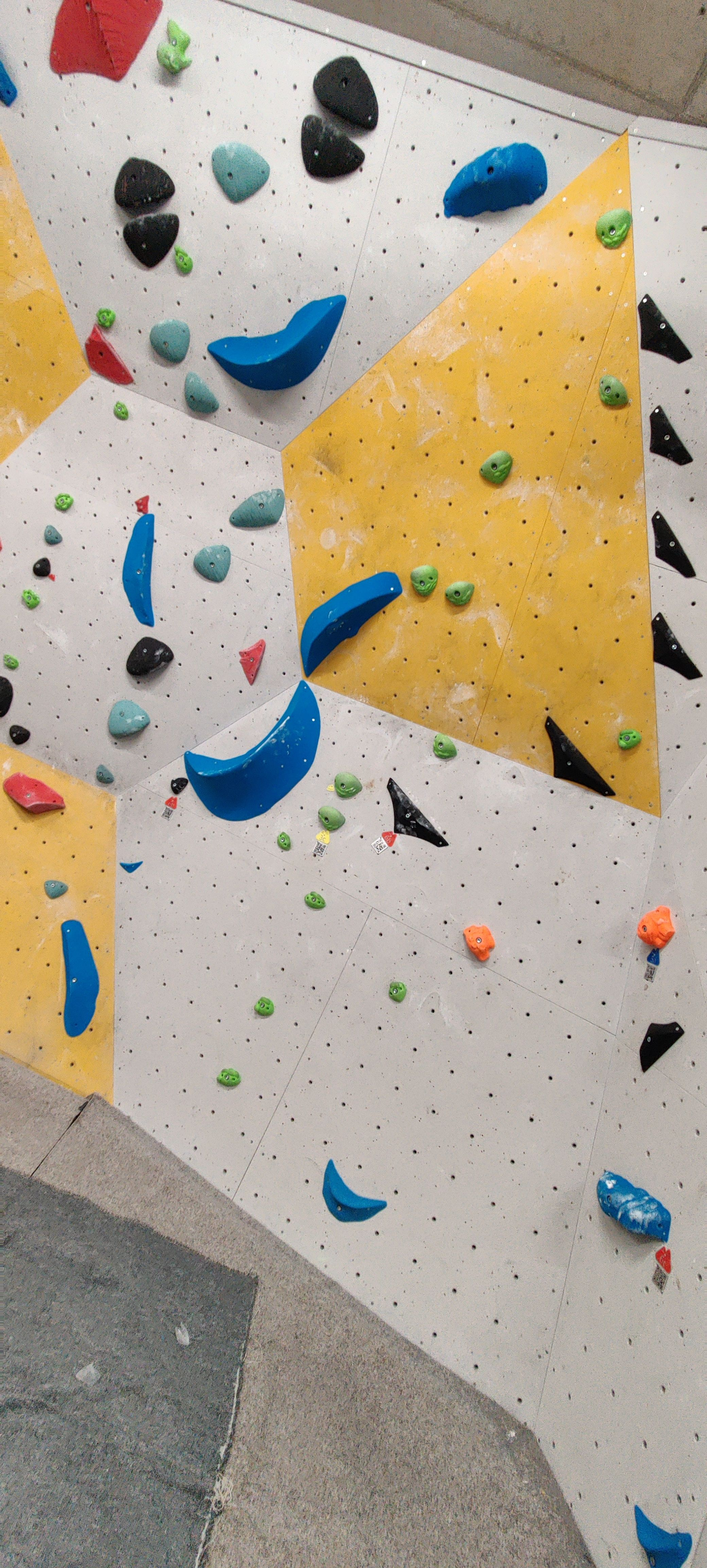hold: (185, 681, 320, 821), (208, 295, 346, 390), (300, 572, 402, 676), (50, 0, 162, 80), (443, 143, 547, 217), (545, 716, 615, 796), (597, 1171, 671, 1242), (313, 56, 378, 130), (61, 920, 99, 1037), (387, 778, 448, 847), (322, 1160, 387, 1222), (301, 116, 364, 178), (638, 294, 691, 363), (122, 513, 154, 626), (635, 1505, 692, 1568), (212, 142, 270, 202), (652, 612, 701, 680), (115, 157, 174, 212), (123, 213, 179, 268), (652, 510, 695, 578), (85, 326, 133, 385), (3, 773, 65, 814), (650, 407, 691, 466), (229, 488, 284, 528), (640, 1022, 684, 1072), (126, 637, 173, 678), (149, 319, 190, 364), (157, 20, 190, 74), (637, 905, 675, 949), (109, 700, 150, 738), (596, 208, 632, 248), (184, 373, 219, 414), (194, 545, 230, 582), (463, 925, 495, 962), (239, 639, 265, 684), (480, 450, 513, 485), (599, 374, 629, 408), (411, 566, 438, 597), (0, 59, 17, 106), (334, 772, 362, 798), (318, 806, 345, 832), (446, 581, 474, 606), (433, 734, 457, 760), (0, 676, 13, 717), (175, 247, 193, 275), (618, 730, 642, 749), (217, 1068, 241, 1087), (96, 308, 116, 329), (45, 880, 67, 899), (305, 891, 326, 910), (10, 725, 29, 745), (254, 997, 274, 1016), (389, 981, 407, 1002), (44, 525, 62, 545), (22, 589, 40, 609), (96, 764, 114, 784), (55, 493, 73, 511), (33, 558, 50, 577), (120, 860, 142, 873), (135, 495, 149, 514), (277, 832, 291, 850), (4, 654, 19, 670)
